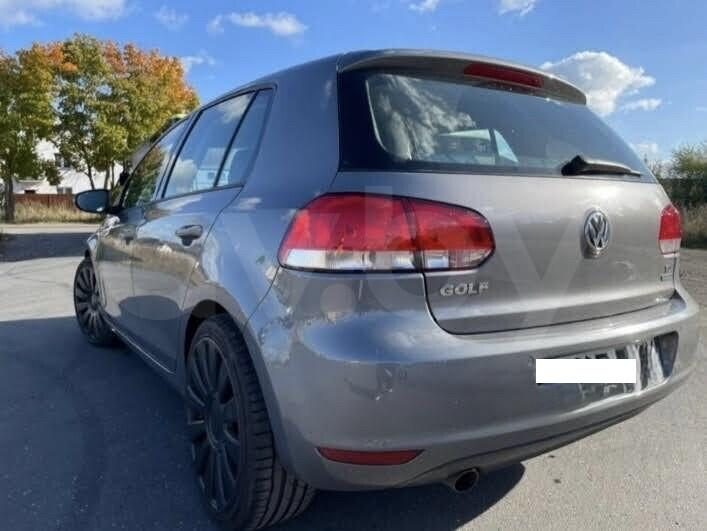Golf_2008-2013: (67, 48, 701, 518)
